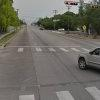Crosswalk: (10, 40, 88, 60)
